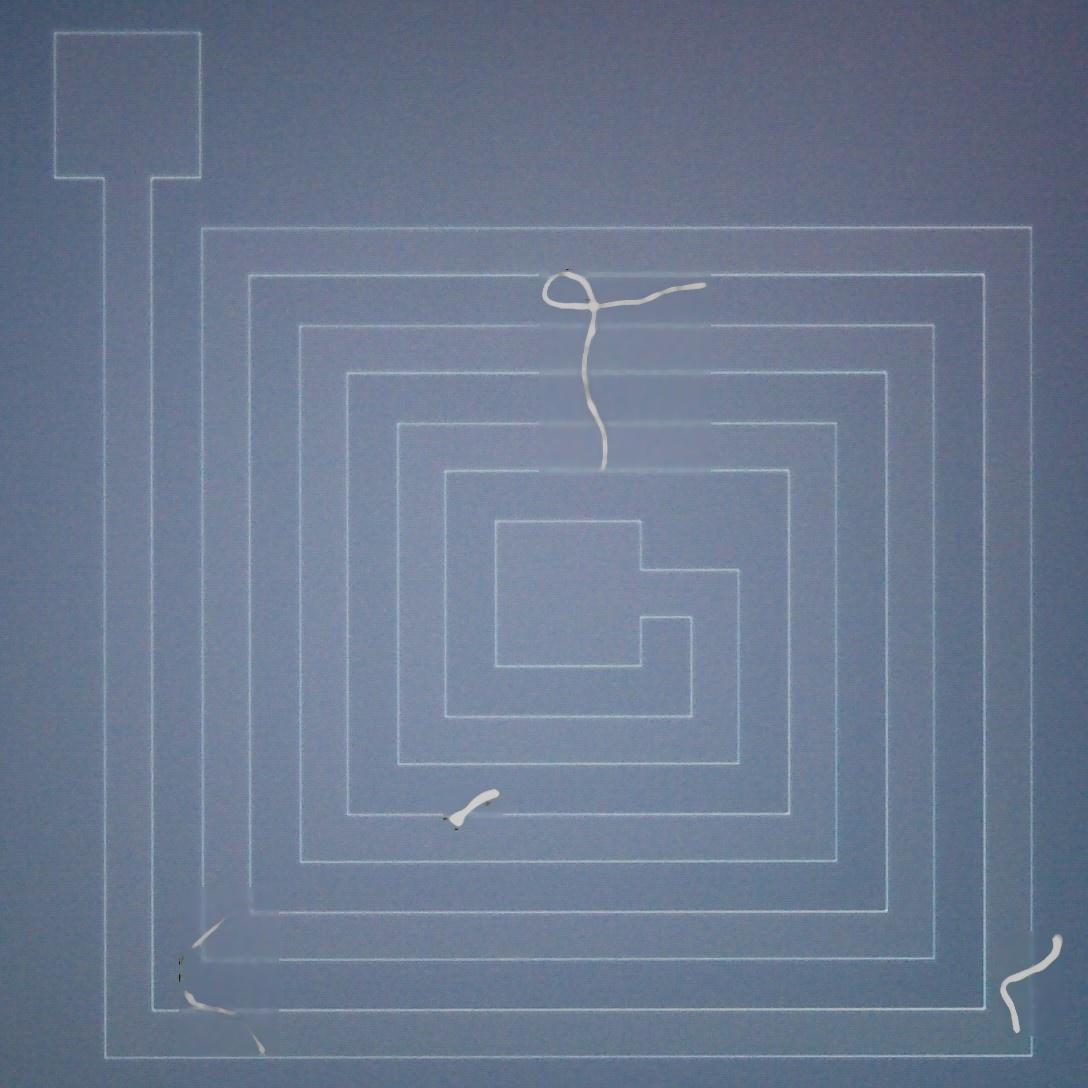foreign: (534, 263, 716, 477), (174, 908, 271, 1061), (992, 926, 1075, 1040), (444, 784, 507, 835)
